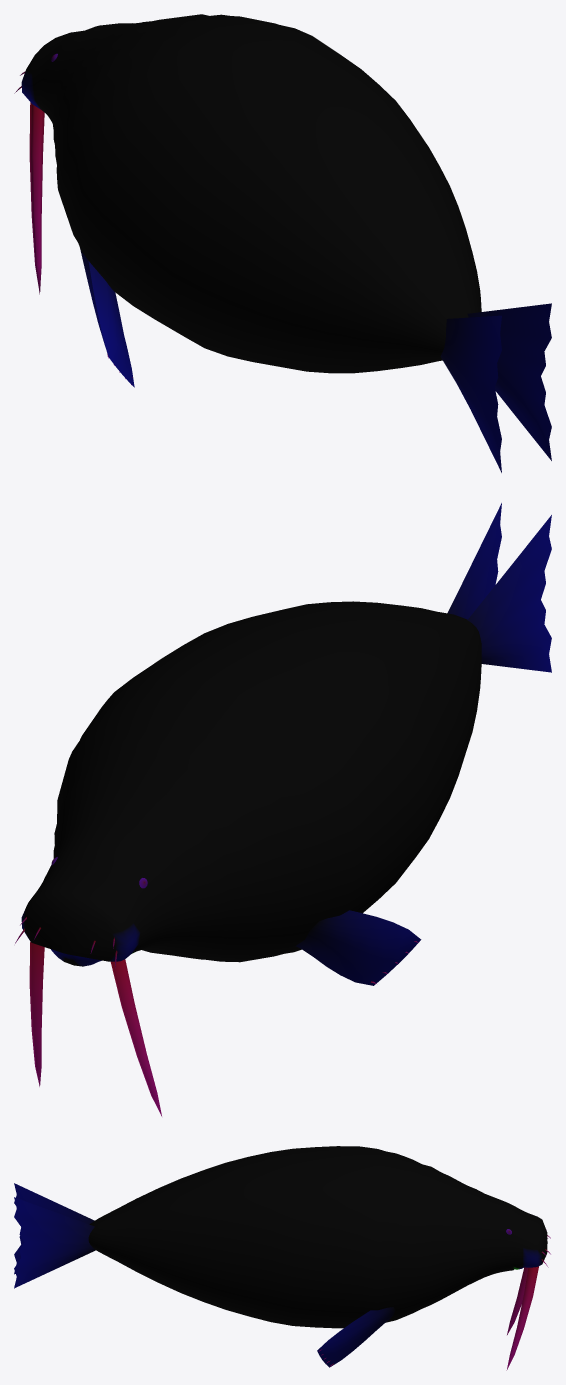
Rendered from walrus_lo.glb.
3 renders of one model, top to bottom at view 1: azimuth 30°, elevation 25°; view 2: azimuth 150°, elevation 25°; view 3: azimuth 270°, elevation 25°, orthographic. The views are drawn at different scales.
Parts seen in each view (by area): view 1: walrus_lo; view 2: walrus_lo; view 3: walrus_lo.
Boxes of the visible parts, bbox=[...] form: walrus_lo: bbox=[14, 14, 551, 472]; walrus_lo: bbox=[15, 503, 551, 1116]; walrus_lo: bbox=[14, 1146, 550, 1370].
Size of the model in its own units: 1.17 by 1.22 by 3.01.
